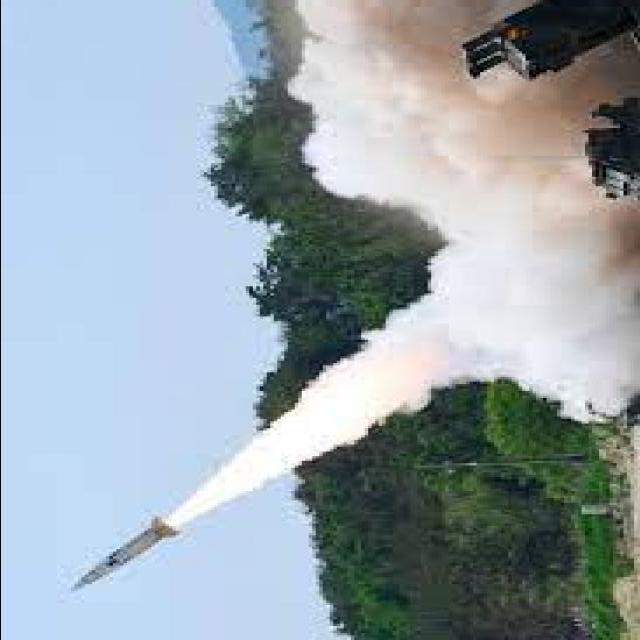Missile: (56, 508, 185, 605)
